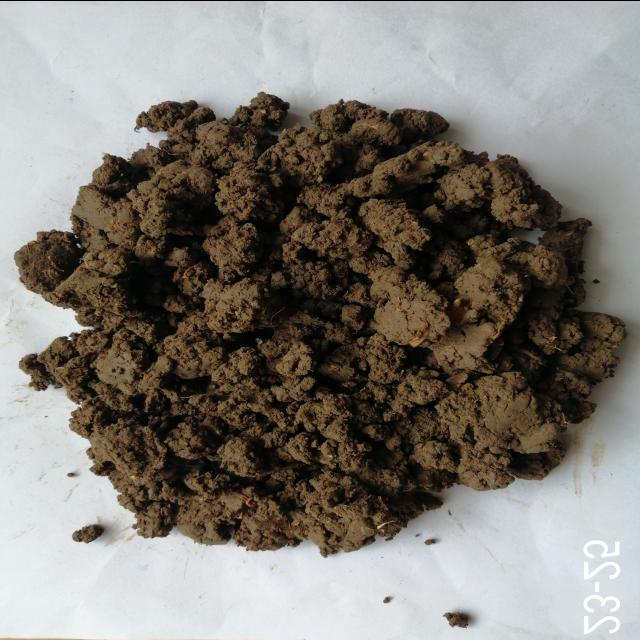soil: (103, 162, 551, 469)
